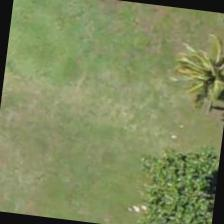Kelapa_Sawit: (164, 26, 223, 124)
